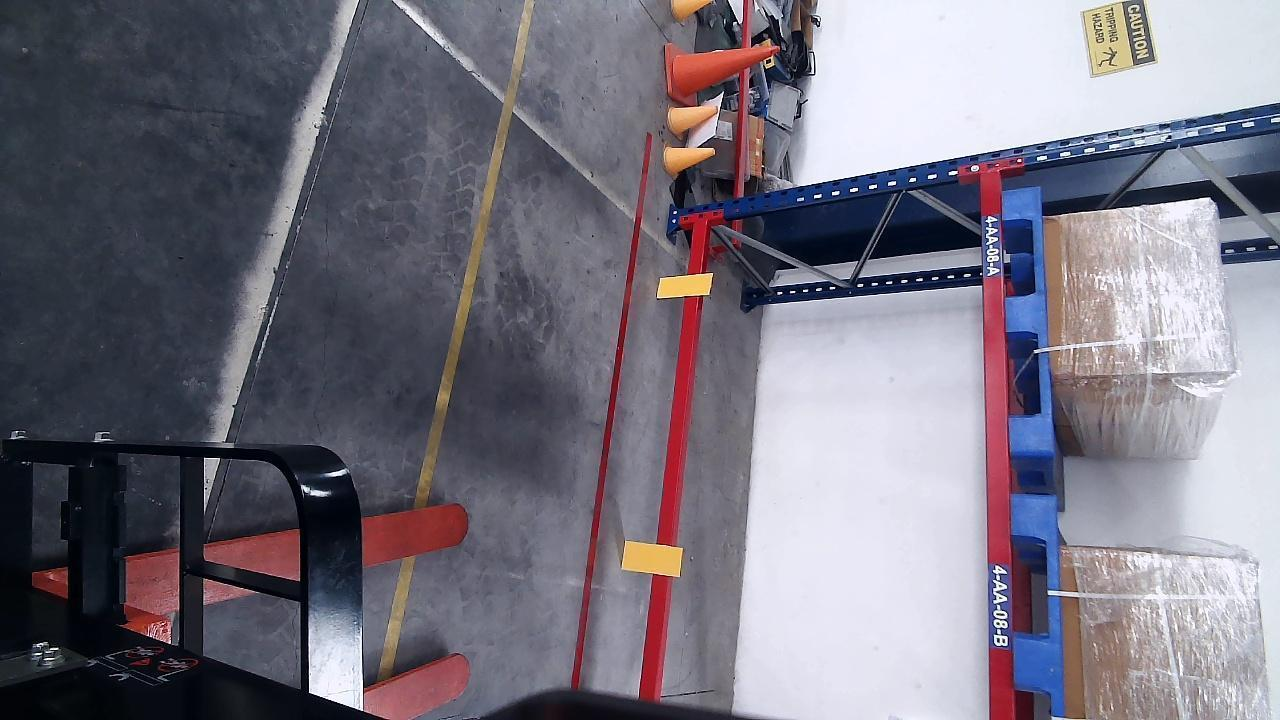red_line: (572, 132, 653, 688)
yellow_line: (414, 2, 539, 508)
